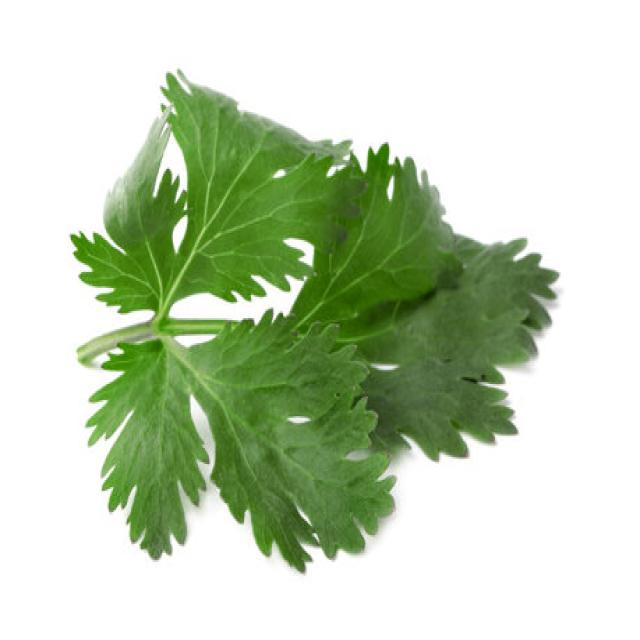Coriander Leaves: (74, 79, 566, 585)
